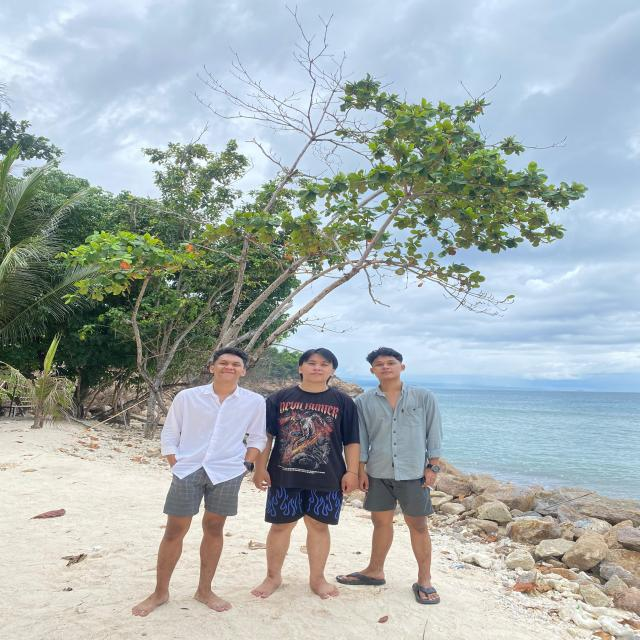nohelmet: (290, 344, 345, 392), (205, 342, 251, 391), (358, 346, 411, 387)
